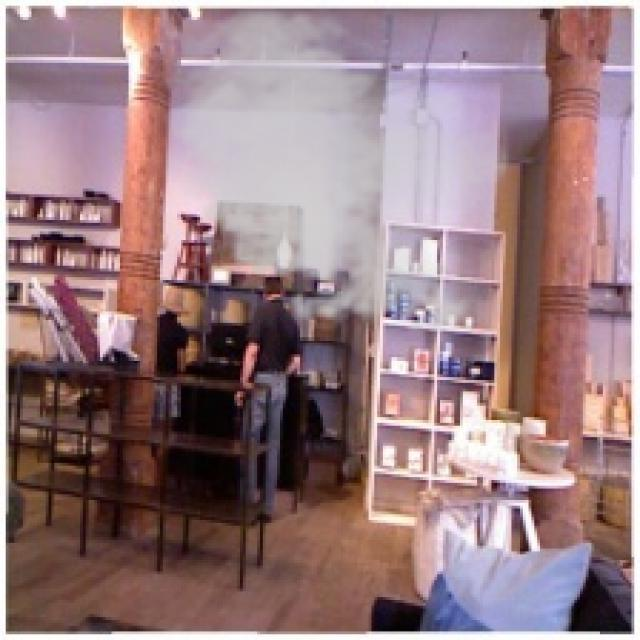Smoke: (154, 0, 512, 346)
